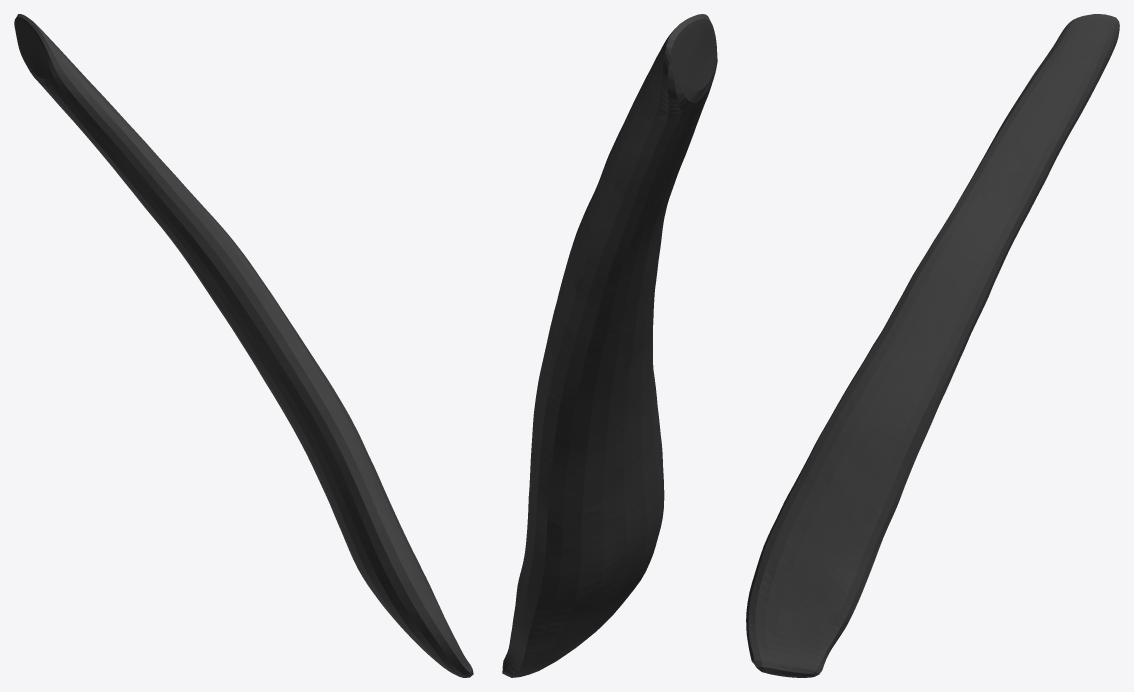
Rendered from Rect_medialis.glb.
3 renders of one model, left to right at view 1: azimuth 30°, elevation 25°; view 2: azimuth 150°, elevation 25°; view 3: azimuth 270°, elevation 25°, orthographic. The views are drawn at different scales.
Visible parts, largest first — view 1: Rect_medialis; view 2: Rect_medialis; view 3: Rect_medialis.
Boxes of the visible parts, box(x1,y1,x2,y2) form: Rect_medialis: box(14, 14, 473, 677); Rect_medialis: box(502, 14, 717, 677); Rect_medialis: box(746, 14, 1119, 677).
Bounding box in the file's own units: 0.0109 × 0.0229 × 0.0142.
1 material, 1 textured.
